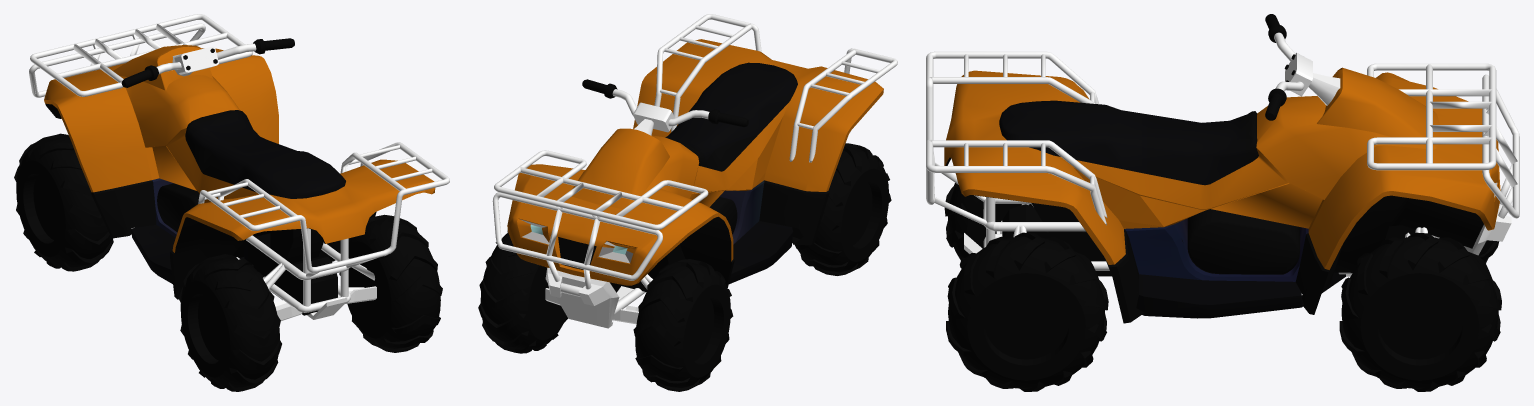
The model's file is Quad.fbx.
3 views of the same model, side by side, from view 1: azimuth 30°, elevation 25°; view 2: azimuth 150°, elevation 25°; view 3: azimuth 270°, elevation 25° (orthographic). The views are drawn at different scales.
Visible parts, largest first — view 1: Bench, Front, Left_Back_Wheel, Back, Detail, Right_Back_Wheel, Left_Front_Wheel, Base, Pipe, Guide; view 2: Bench, Back, Front, Detail, Left_Front_Wheel, Left_Back_Wheel, Right_Front_Wheel, Base, Guide, Pipe; view 3: Bench, Right_Front_Wheel, Right_Back_Wheel, Front, Detail, Back, Base, Guide, Left_Back_Wheel, Pipe, Left_Front_Wheel.
Part boxes in pixels (x1,y1,x2,y2): Bench: (113, 45, 345, 237); Front: (44, 48, 278, 238); Left_Back_Wheel: (178, 254, 281, 391); Back: (170, 159, 435, 299); Detail: (29, 14, 449, 277); Right_Back_Wheel: (339, 214, 442, 352); Left_Front_Wheel: (14, 133, 113, 271); Base: (131, 225, 376, 320); Pipe: (236, 228, 374, 312); Guide: (121, 38, 294, 87); Bench: (572, 62, 797, 244); Back: (633, 39, 883, 245); Front: (507, 164, 734, 292); Detail: (492, 14, 897, 296); Left_Front_Wheel: (633, 259, 733, 391); Left_Back_Wheel: (795, 143, 891, 275); Right_Front_Wheel: (478, 230, 567, 353); Base: (545, 221, 793, 328); Guide: (582, 79, 748, 135); Pipe: (614, 274, 652, 314); Bench: (999, 67, 1440, 281); Right_Front_Wheel: (1339, 232, 1501, 391); Right_Back_Wheel: (946, 232, 1108, 391); Front: (1295, 72, 1500, 314); Detail: (926, 51, 1519, 225); Back: (944, 70, 1144, 323); Base: (964, 196, 1511, 318); Guide: (1265, 14, 1340, 120); Left_Back_Wheel: (944, 183, 1032, 268); Pipe: (983, 197, 1427, 274); Left_Front_Wheel: (1385, 225, 1499, 263).
Size of the model in its own units: 126 by 133 by 253.
